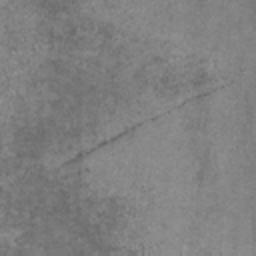Finishing roll printing: (56, 78, 238, 166)
